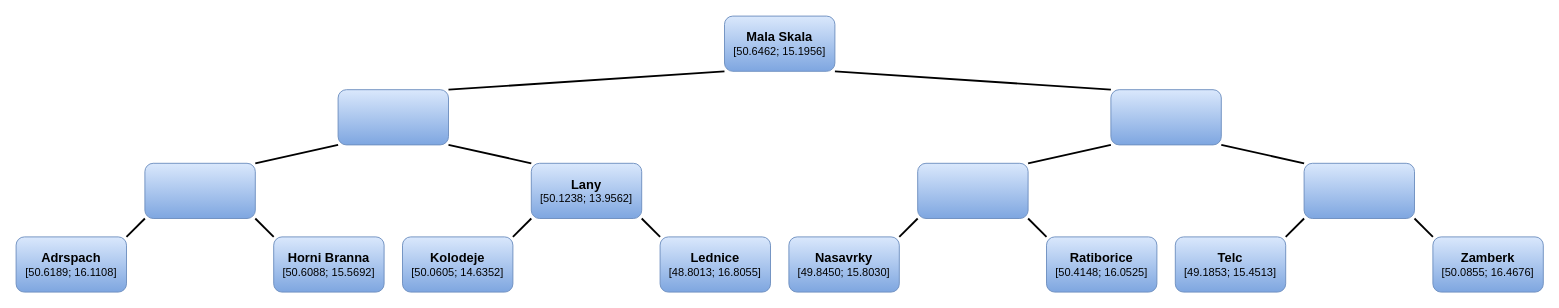
This 1559x308 diagram has some shape labels left out. Each missing label, with the box of its shape:
Dukovany [49.0817; 16.1946]: (144, 162, 255, 218)
Jilemnice [50.6104; 15.5045]: (337, 89, 448, 145)
Potstejn [50.0823; 16.3086]: (917, 162, 1028, 218)
Svijany [50.5735; 15.0556]: (1110, 89, 1221, 145)
Usobi [49.5165; 15.5022]: (1303, 162, 1414, 218)
